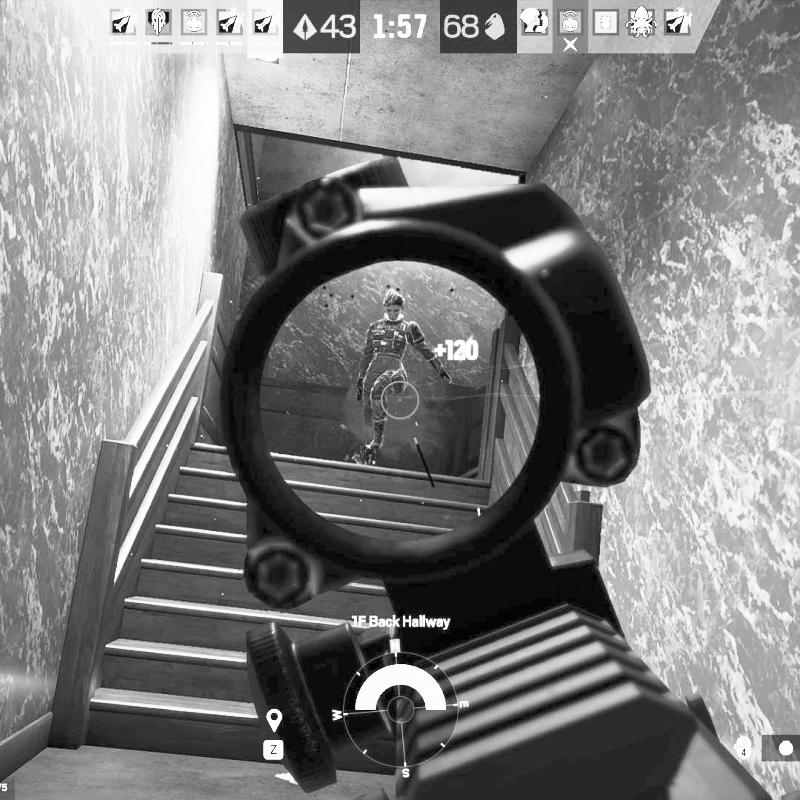Character: (347, 287, 457, 468)
Head: (380, 289, 406, 323)
